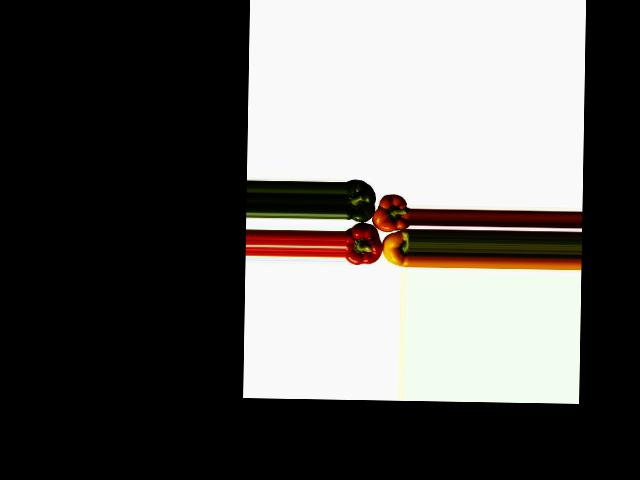bell_pepper: (380, 226, 410, 268)
